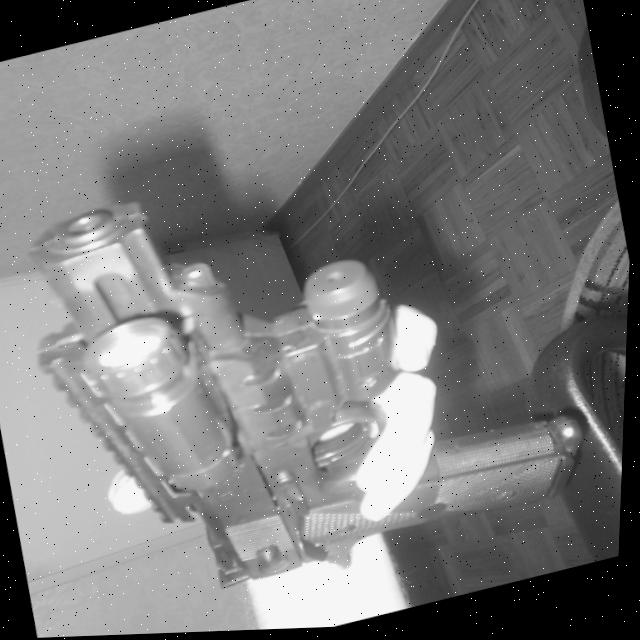pistol: (0, 98, 615, 639)
